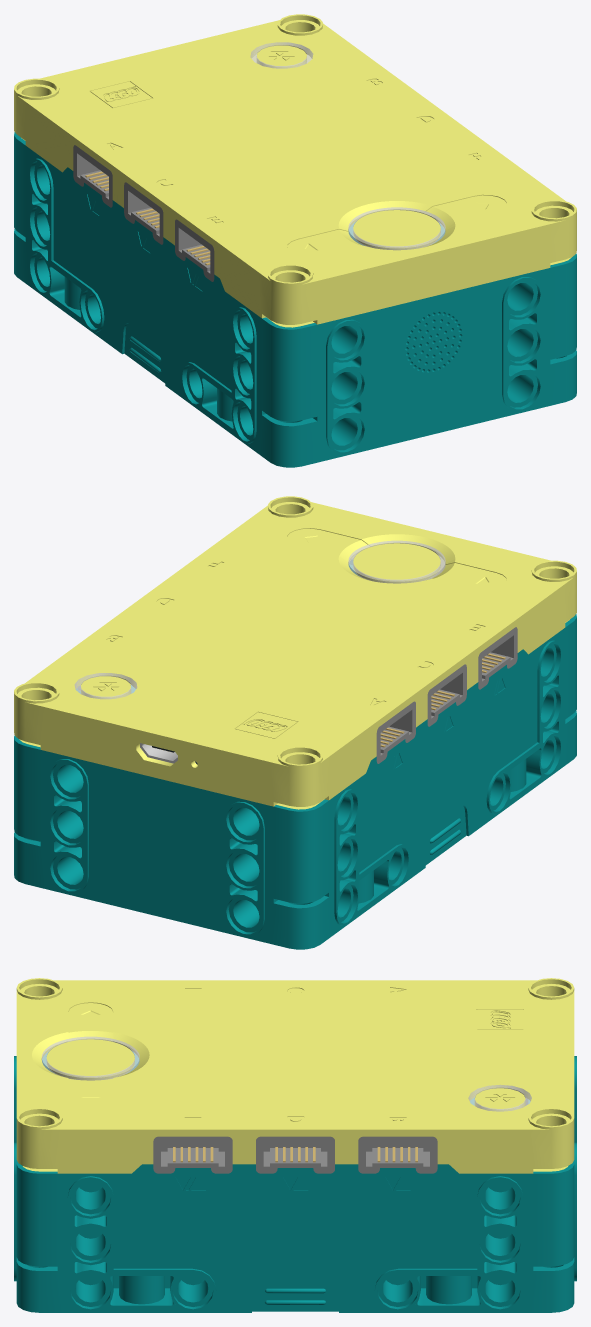
3 views of the same model, one above another, from view 1: azimuth 30°, elevation 25°; view 2: azimuth 150°, elevation 25°; view 3: azimuth 270°, elevation 25° (orthographic).
Visible parts, largest first — view 1: u9393.dat, u9402.dat, 23807.dat (×3), u9396.dat, u9397.dat (×2), u9399.dat, u9395.dat, u9398.dat, u9394.dat; view 2: u9393.dat, u9402.dat, 23807.dat (×3), u9396.dat, u9397.dat (×2), u9399.dat, u9395.dat, u9398.dat, u9394.dat; view 3: u9393.dat, u9402.dat, 23807.dat (×3), u9399.dat, u9396.dat, u9397.dat (×2), u9395.dat, u9398.dat, u9472.dat, u9394.dat.
Part boxes in pixels (x1,y1,x2,y2): u9393.dat: (14,14,576,327); u9402.dat: (14,132,576,467); 23807.dat (×3): (73,145,214,281); u9396.dat: (353,210,440,250); u9397.dat (×2): (287,195,506,256); u9399.dat: (118,315,168,387); u9395.dat: (348,207,445,250); u9398.dat: (256,45,306,68); u9394.dat: (250,42,313,68); u9393.dat: (14,496,576,809); u9402.dat: (14,560,576,949); 23807.dat (×3): (376,627,517,763); u9396.dat: (353,543,440,583); u9397.dat (×2): (287,528,506,589); u9399.dat: (422,797,472,869); u9395.dat: (348,540,445,583); u9398.dat: (81,676,131,699); u9394.dat: (74,673,137,699); u9393.dat: (16,978,574,1173); u9402.dat: (14,1052,576,1312); 23807.dat (×3): (153,1136,437,1173); u9399.dat: (79,1182,511,1312); u9396.dat: (46,1039,134,1080); u9397.dat (×2): (68,1003,113,1107); u9395.dat: (41,1036,139,1080); u9398.dat: (474,1088,525,1111); u9472.dat: (79,1232,511,1285); u9394.dat: (468,1085,531,1111).
Size of the model in its own units: 0.056 by 0.032 by 0.088.
